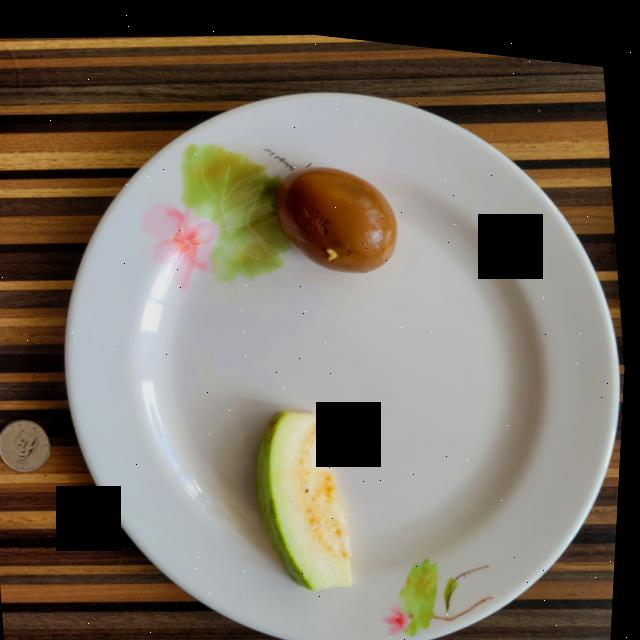coin: (2, 417, 55, 470)
guava -sliced-: (261, 402, 357, 580)
soy egg: (277, 158, 399, 263)
